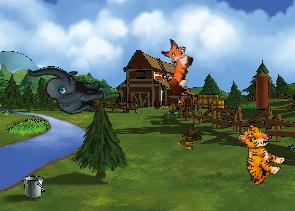elephant: (27, 53, 107, 123)
fox: (149, 37, 199, 97)
tiger: (222, 120, 292, 190)
